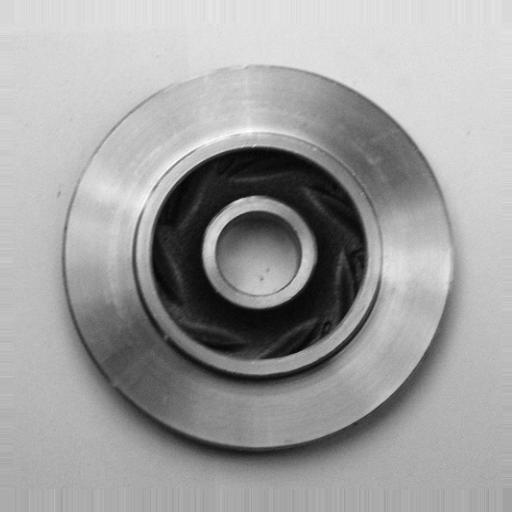unpolished_casting: (59, 61, 458, 454)
